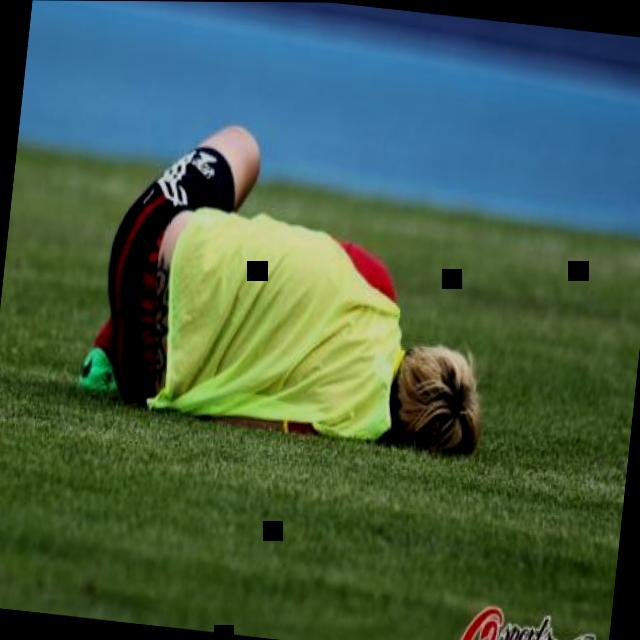Fall-Detected: (70, 79, 512, 460)
